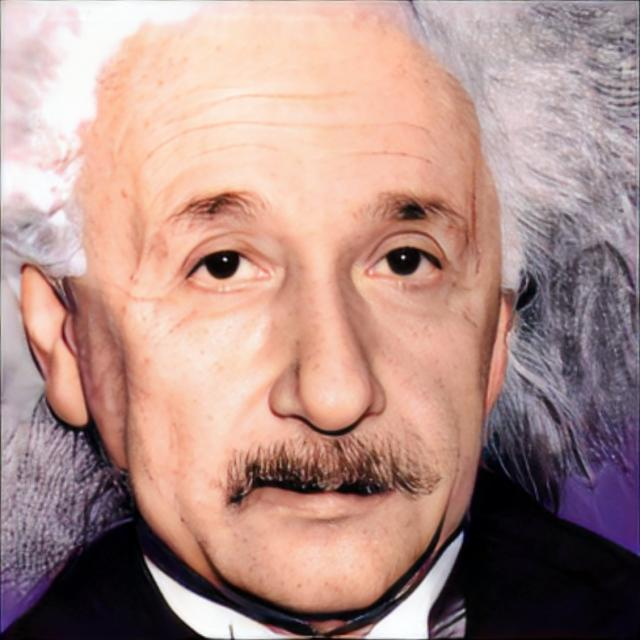neutral: (89, 2, 502, 614)
